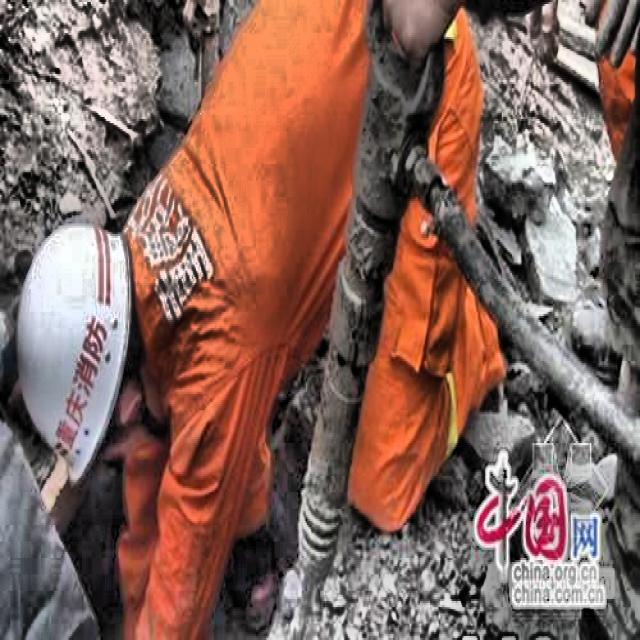helmet: (5, 190, 156, 502)
